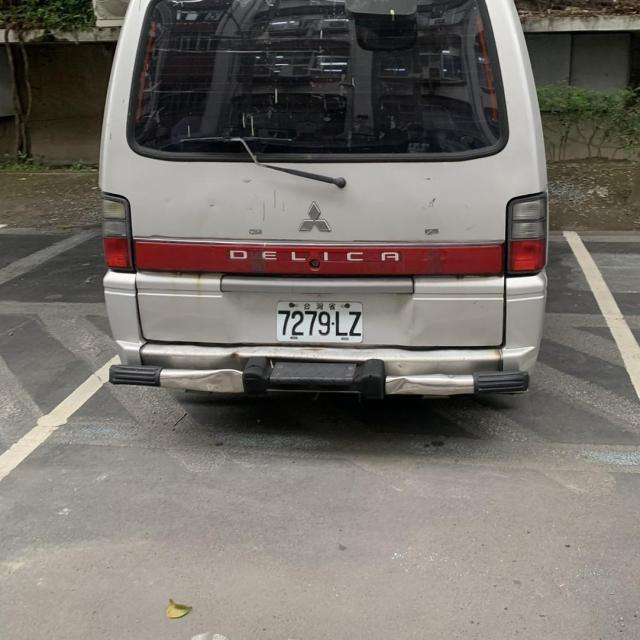W: (273, 298, 367, 346)
